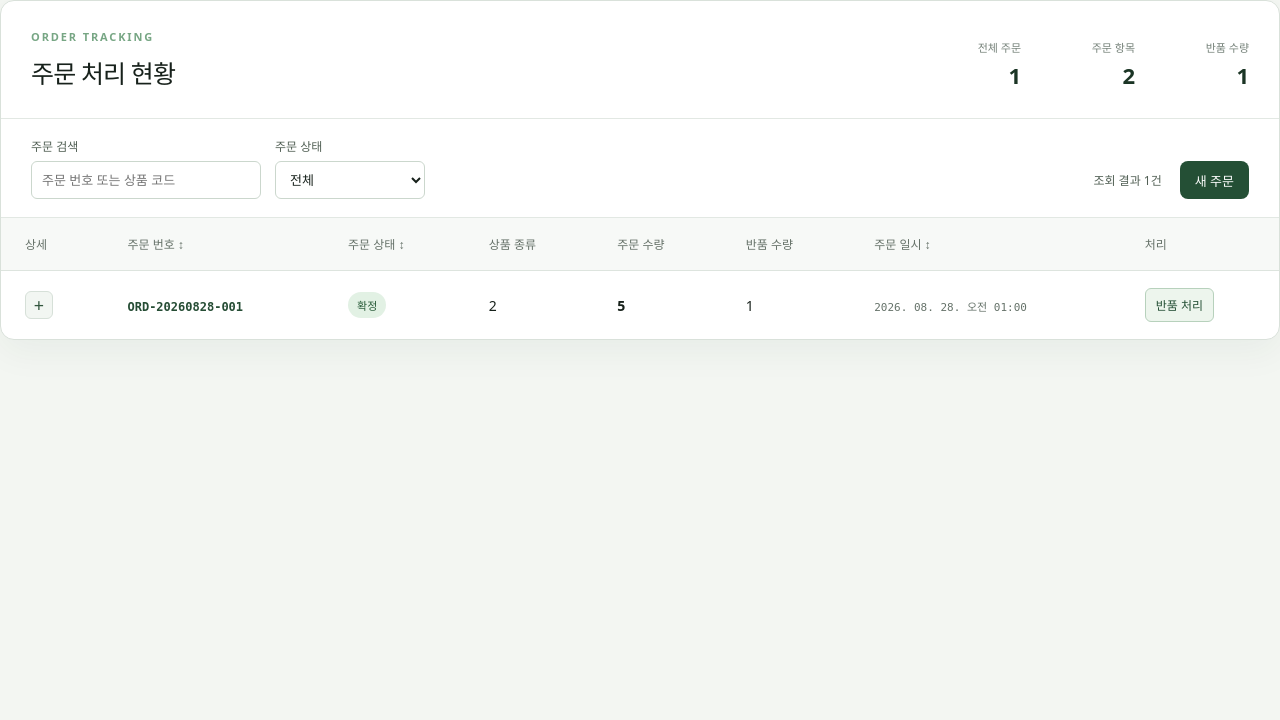
Test: OrderPage › 주문 상태와 펼친 상품 내역을 표시한다
This screenshot has width=1280, height=720.
Expected: the text "ORD-20260828-001" is shown, [128,300,243,314]
Expected: the text "확정" is shown, [348,292,386,318]
Click the button named "ORD-20260828-001 상품 내역 펼치기": [39, 305] box [25,291,53,319]
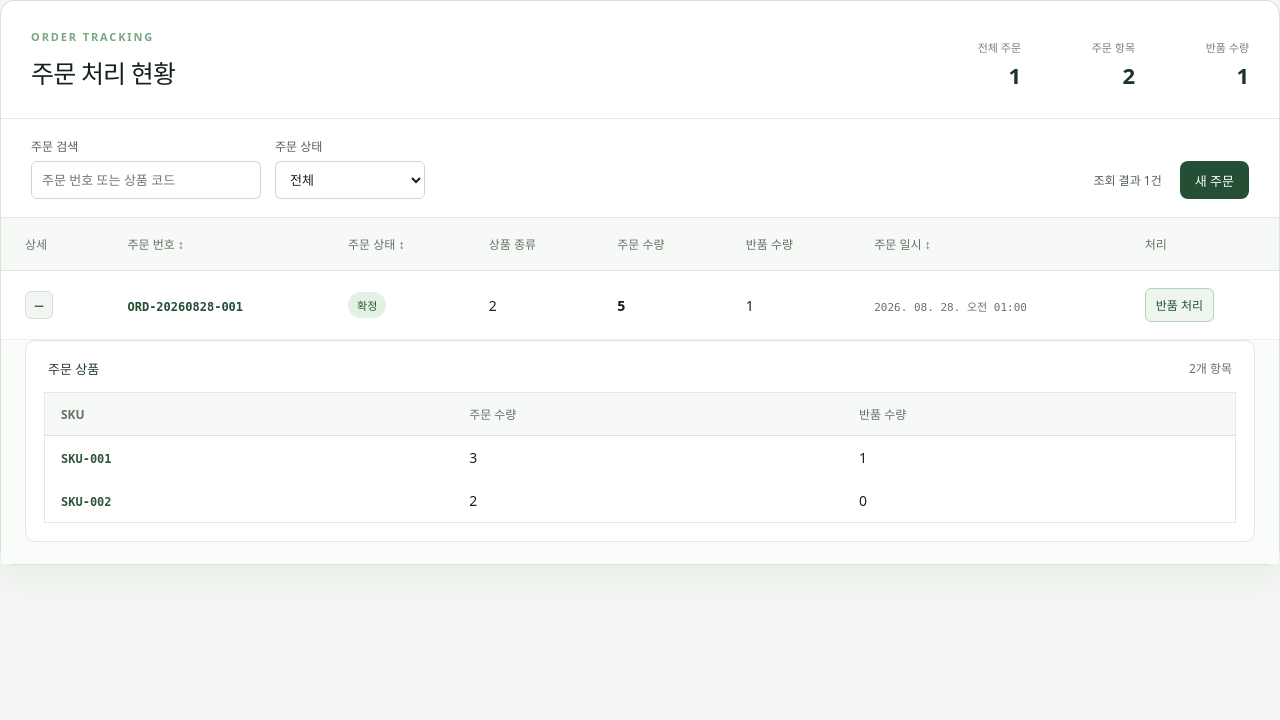
Result: the element named "ORD-20260828-001 상품 내역" is shown at [25,340,1255,542]
Result: the text "SKU-001" is shown at [61,452,112,466]
Result: the text "SKU-002" is shown at [61,495,112,509]
